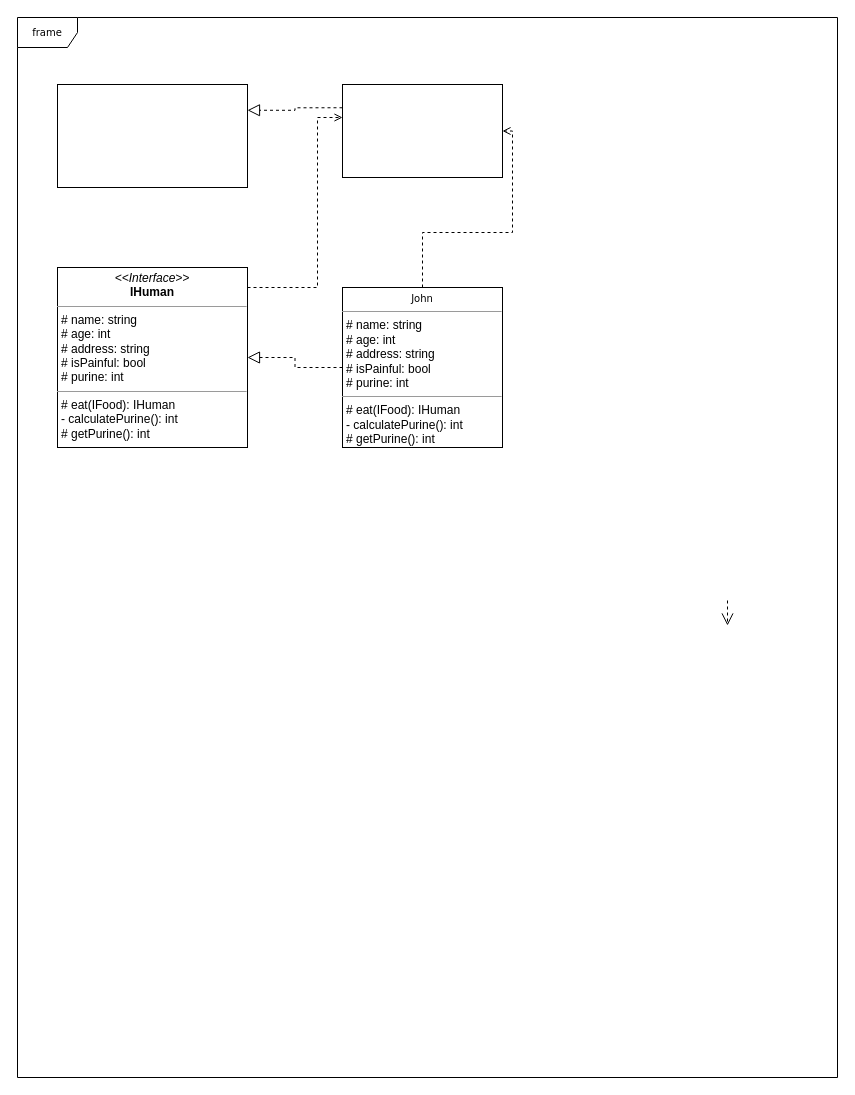
This 855x1095 diagram has some shape labels left out. Each missing label, with the box of its shape:
<<Interface>> IFood # name: string # purine: int # getPurine(): int: (56, 84, 248, 188)
Beef # name: string # purine: int # getPurine(): int: (342, 84, 502, 178)
